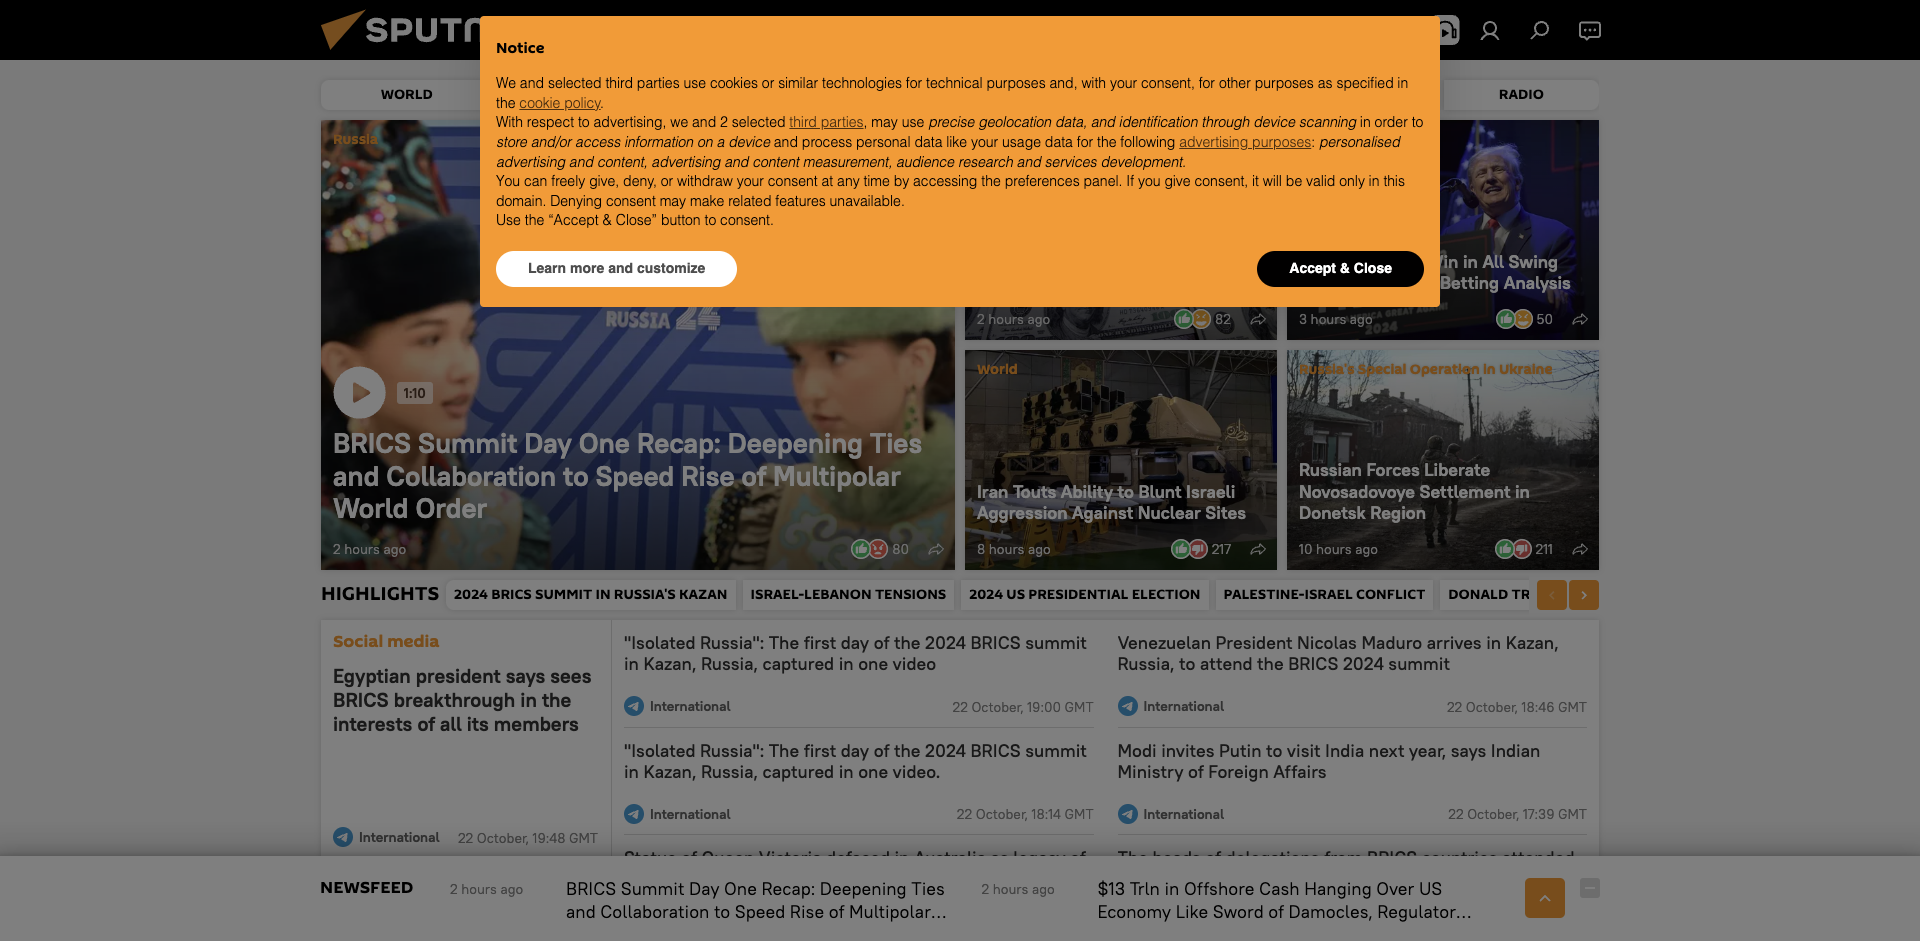button: (496, 251, 737, 287), (1258, 251, 1424, 287), (1179, 134, 1311, 153), (790, 114, 863, 134), (1537, 580, 1567, 610), (1569, 580, 1599, 610), (1430, 15, 1460, 45)
link: (321, 120, 955, 570), (965, 120, 1277, 339), (1287, 120, 1599, 339), (965, 350, 1277, 570), (1287, 350, 1599, 570), (965, 124, 1277, 339), (1287, 354, 1599, 570), (1287, 146, 1599, 339), (965, 376, 1277, 570), (446, 858, 967, 941), (977, 858, 1499, 941), (1509, 858, 1920, 941), (624, 847, 1093, 890), (1118, 847, 1587, 890), (624, 632, 1093, 674), (1118, 632, 1587, 674), (624, 740, 1093, 782), (1118, 740, 1587, 782), (333, 664, 598, 736), (333, 871, 598, 941), (333, 132, 943, 149), (1440, 580, 1755, 610), (446, 580, 736, 610), (1179, 80, 1436, 110), (961, 580, 1209, 610), (500, 80, 718, 110), (1216, 580, 1434, 610), (742, 580, 954, 610), (321, 80, 492, 110), (1004, 80, 1172, 110), (1444, 80, 1599, 110), (1762, 580, 1904, 610), (1299, 361, 1553, 379), (856, 80, 997, 110), (310, 47, 550, 64), (725, 80, 849, 110), (320, 879, 425, 899), (1469, 10, 1510, 50), (519, 94, 601, 110), (977, 132, 1041, 149), (1299, 132, 1363, 149), (923, 535, 949, 562), (977, 361, 1018, 379), (1245, 535, 1271, 562), (1567, 535, 1593, 562), (1245, 306, 1271, 332), (1567, 306, 1593, 332), (1910, 580, 1920, 610)
menu_item: (1520, 10, 1560, 50)
toggle: (1570, 10, 1610, 50)
